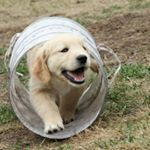puppy: (24, 32, 92, 140)
